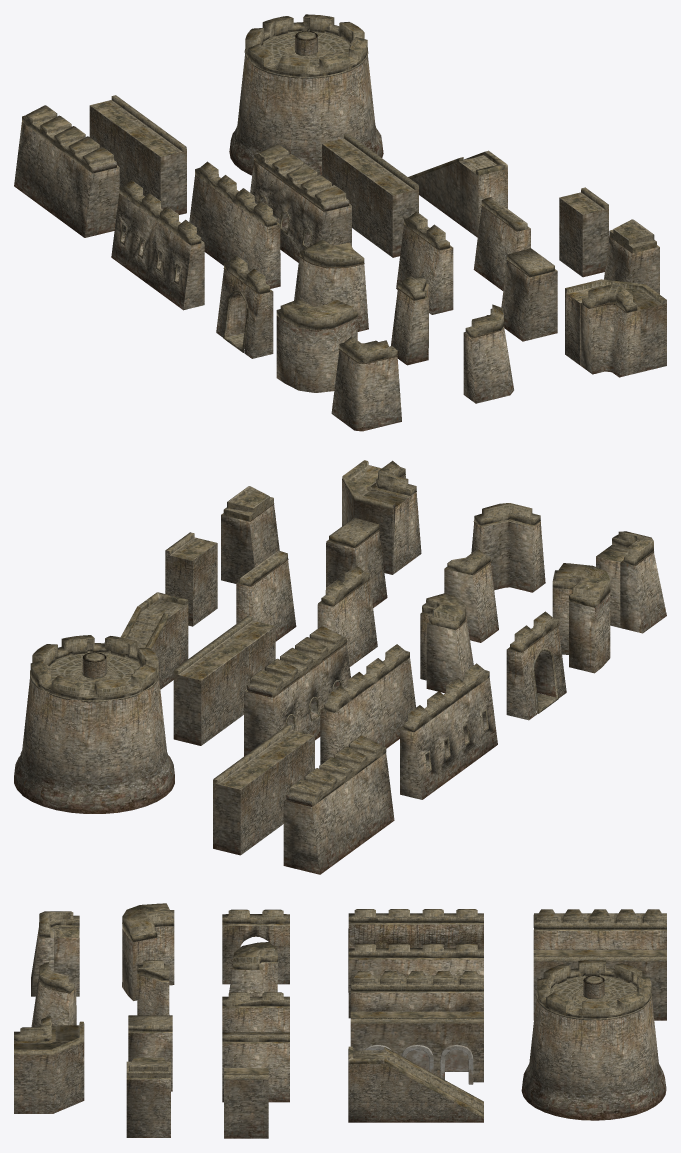
File: modular_fort_01-lod.glb
The picture shows the model from 3 angles, top to bottom: view 1: azimuth 30°, elevation 25°; view 2: azimuth 150°, elevation 25°; view 3: azimuth 270°, elevation 25°; orthographic projection. The views are drawn at different scales.
Parts seen in each view (by area): view 1: modular_fort_01_tower_round, modular_fort_01_wall_thick_straight_01, modular_fort_01_wall_thin_straight_02, modular_fort_01_wall_thick_straight_02, modular_fort_01_wall_thin_straight_01, modular_fort_01_wall_walkway_straight_01, modular_fort_01_wall_walkway_straight_02, modular_fort_01_wall_thick_corner_02, modular_fort_01_wall_thin_corner_02, modular_fort_01_wall_thin_corner_01, modular_fort_01_wall_stairs_straight_01, modular_fort_01_wall_thin_gate_01 (+9 smaller); view 2: modular_fort_01_tower_round, modular_fort_01_wall_thick_straight_01, modular_fort_01_wall_thin_straight_02, modular_fort_01_wall_walkway_straight_01, modular_fort_01_wall_walkway_straight_02, modular_fort_01_wall_thick_straight_02, modular_fort_01_wall_thin_straight_01, modular_fort_01_wall_thick_corner_02, modular_fort_01_wall_thin_corner_03, modular_fort_01_wall_thin_gate_01, modular_fort_01_wall_thick_corner_01, modular_fort_01_wall_thick_end_02 (+10 smaller); view 3: modular_fort_01_tower_round, modular_fort_01_wall_stairs_straight_01, modular_fort_01_wall_walkway_straight_01, modular_fort_01_wall_walkway_corner_01, modular_fort_01_wall_thick_straight_01, modular_fort_01_wall_thick_straight_02, modular_fort_01_wall_thin_straight_02, modular_fort_01_wall_thin_straight_01, modular_fort_01_wall_thick_corner_02, modular_fort_01_wall_thick_end_02, modular_fort_01_wall_walkway_straight_02, modular_fort_01_wall_thin_straight_03 (+10 smaller).
Boxes of the visible parts, x1,y1,x2,y2 form: modular_fort_01_tower_round: (229,14,383,175); modular_fort_01_wall_thick_straight_01: (14,105,119,237); modular_fort_01_wall_thin_straight_02: (111,180,204,310); modular_fort_01_wall_thick_straight_02: (250,143,351,262); modular_fort_01_wall_thin_straight_01: (189,161,280,288); modular_fort_01_wall_walkway_straight_01: (322,133,418,257); modular_fort_01_wall_walkway_straight_02: (89,95,186,214); modular_fort_01_wall_thick_corner_02: (276,298,357,392); modular_fort_01_wall_thin_corner_02: (331,336,401,431); modular_fort_01_wall_thin_corner_01: (580,284,640,377); modular_fort_01_wall_stairs_straight_01: (408,150,507,237); modular_fort_01_wall_thin_gate_01: (216,255,273,358); modular_fort_01_tower_round: (14,635,174,813); modular_fort_01_wall_thick_straight_01: (283,735,394,874); modular_fort_01_wall_thin_straight_02: (400,663,497,799); modular_fort_01_wall_walkway_straight_01: (173,615,275,745); modular_fort_01_wall_walkway_straight_02: (213,724,314,855); modular_fort_01_wall_thick_straight_02: (244,626,350,756); modular_fort_01_wall_thin_straight_01: (320,644,415,764); modular_fort_01_wall_thick_corner_02: (552,563,610,673); modular_fort_01_wall_thin_corner_03: (471,503,545,592); modular_fort_01_wall_thin_gate_01: (506,611,566,720); modular_fort_01_wall_thick_corner_01: (420,593,473,693); modular_fort_01_wall_thick_end_02: (221,486,279,583); modular_fort_01_tower_round: (521,960,666,1120); modular_fort_01_wall_stairs_straight_01: (348,1046,483,1122); modular_fort_01_wall_walkway_straight_01: (350,1011,483,1084); modular_fort_01_wall_walkway_corner_01: (14,1021,84,1113); modular_fort_01_wall_thick_straight_01: (533,909,666,949); modular_fort_01_wall_thick_straight_02: (350,971,483,1011); modular_fort_01_wall_thin_straight_02: (348,909,483,956); modular_fort_01_wall_thin_straight_01: (348,943,483,1018); modular_fort_01_wall_thick_corner_02: (122,903,174,1000); modular_fort_01_wall_thick_end_02: (126,1057,170,1137); modular_fort_01_wall_walkway_straight_02: (533,949,666,1020); modular_fort_01_wall_thin_straight_03: (222,1032,289,1102).
Bounding box in the file's own units: 42.67 × 13.58 × 71.38.
Materials: 3 (3 with a texture image).
